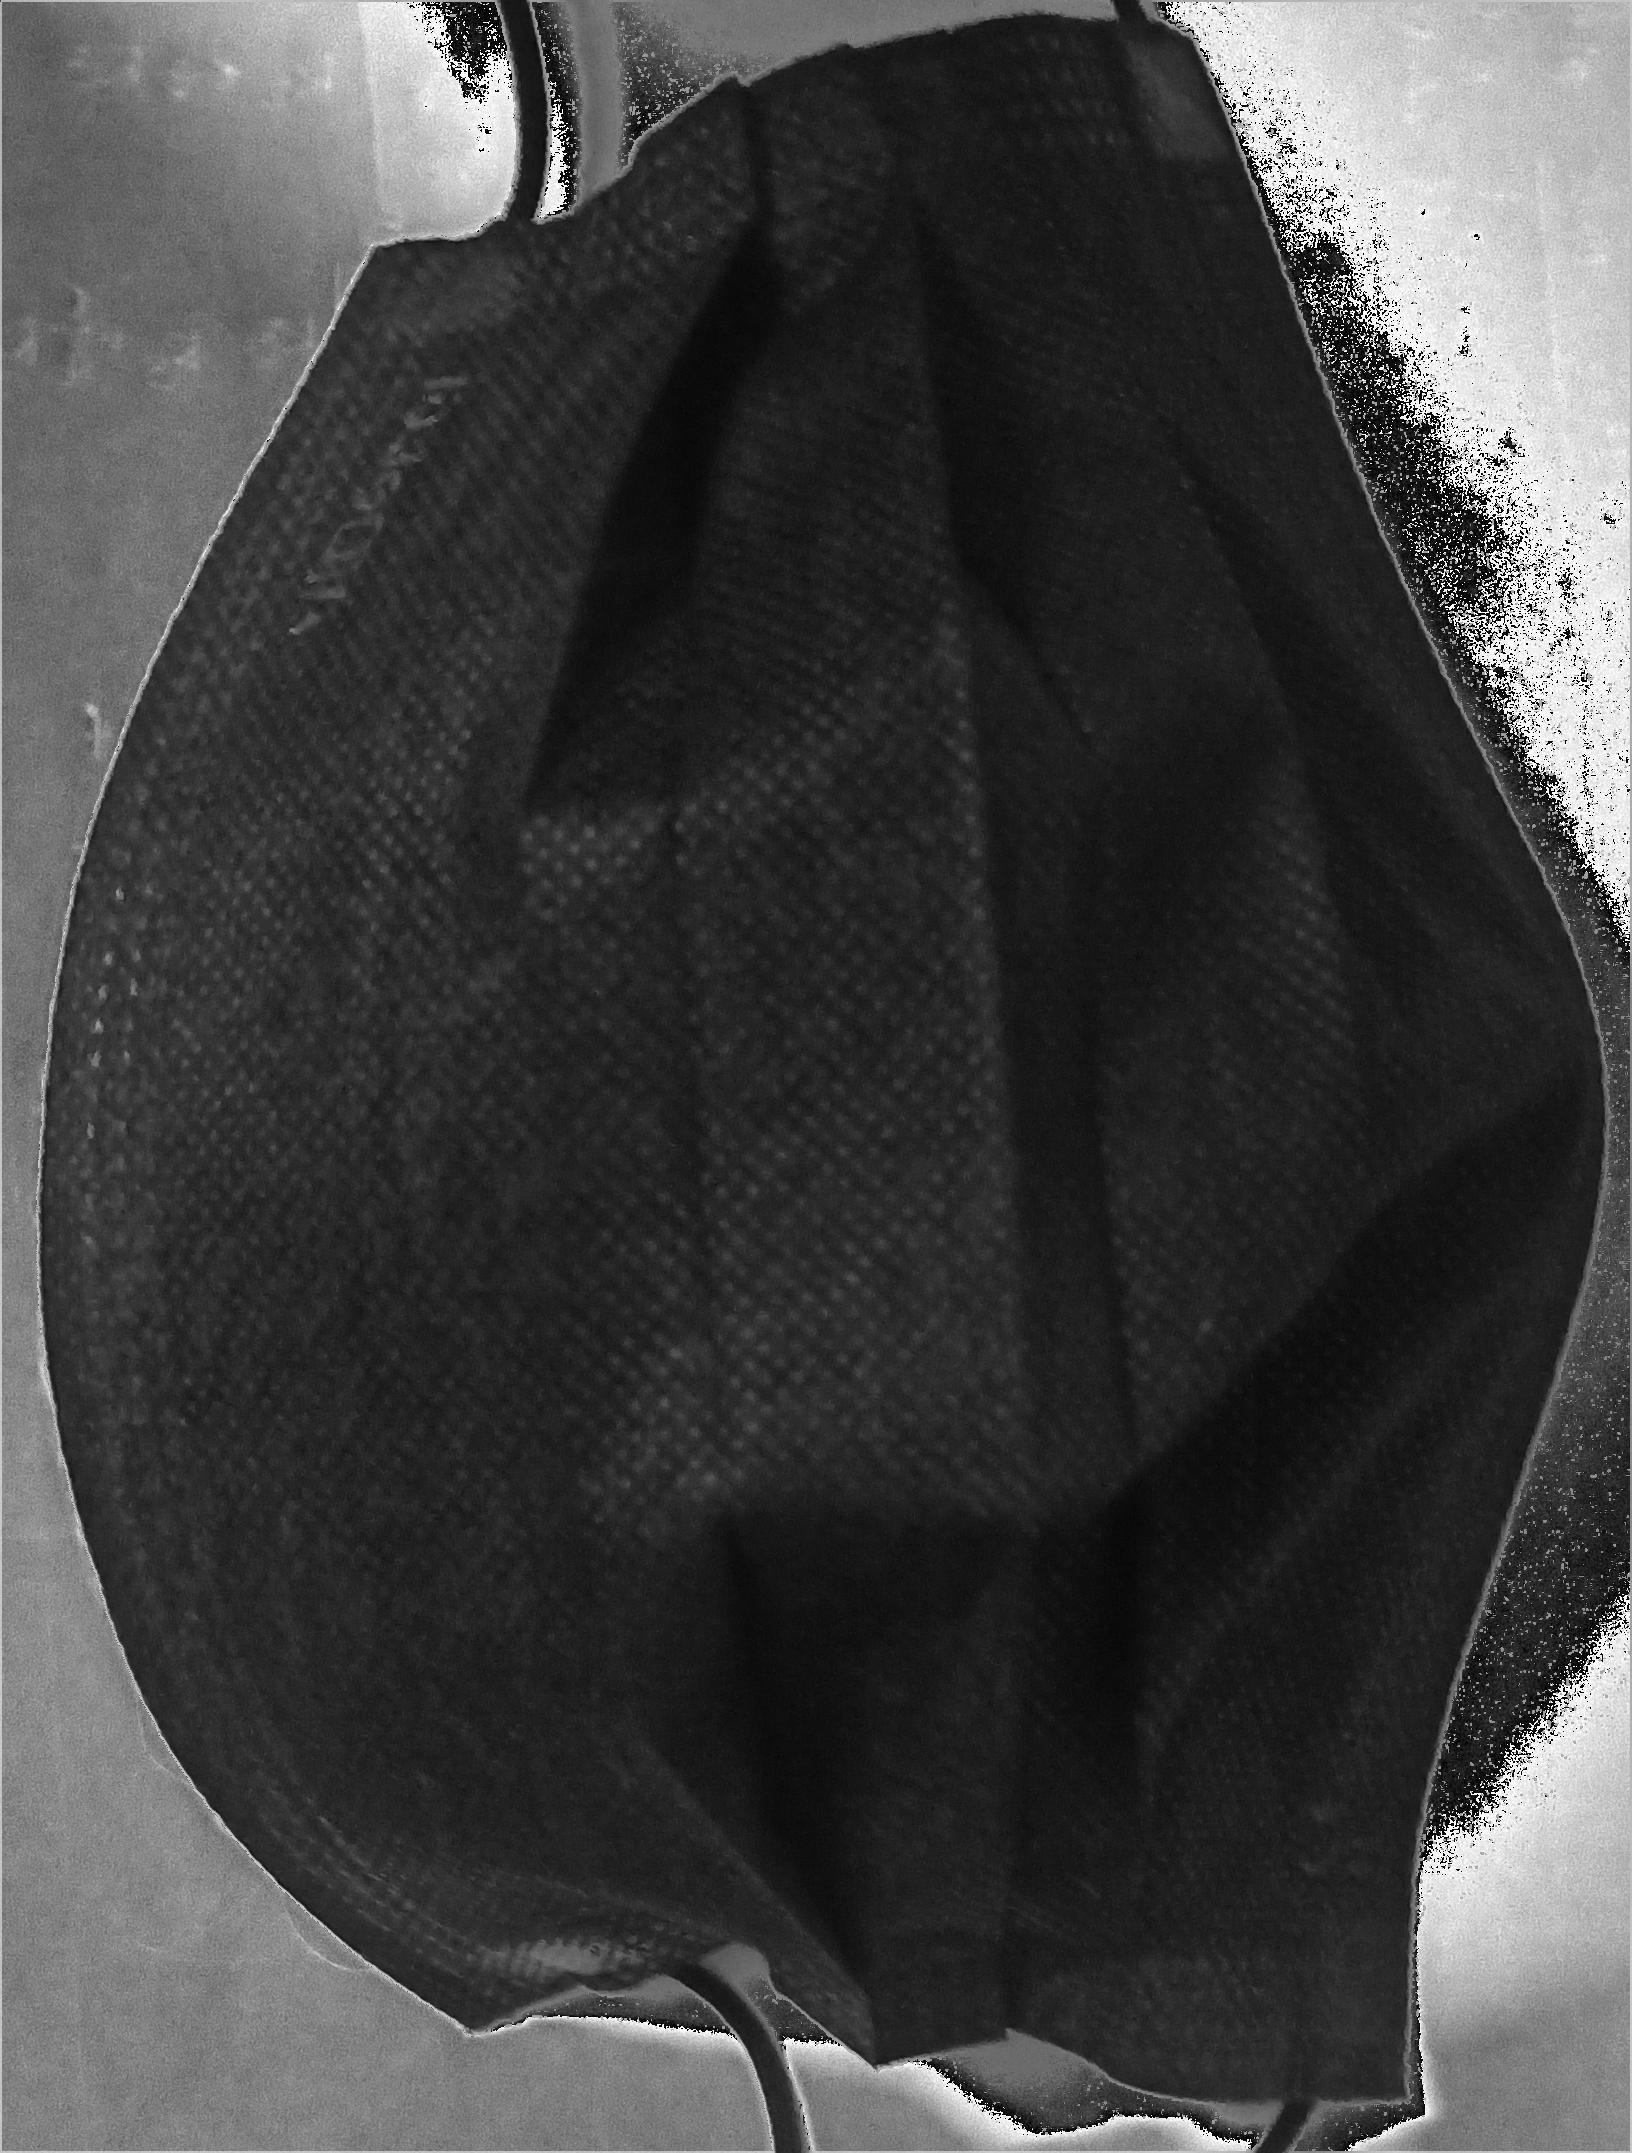Low GSM: (398, 487, 1299, 1778)
